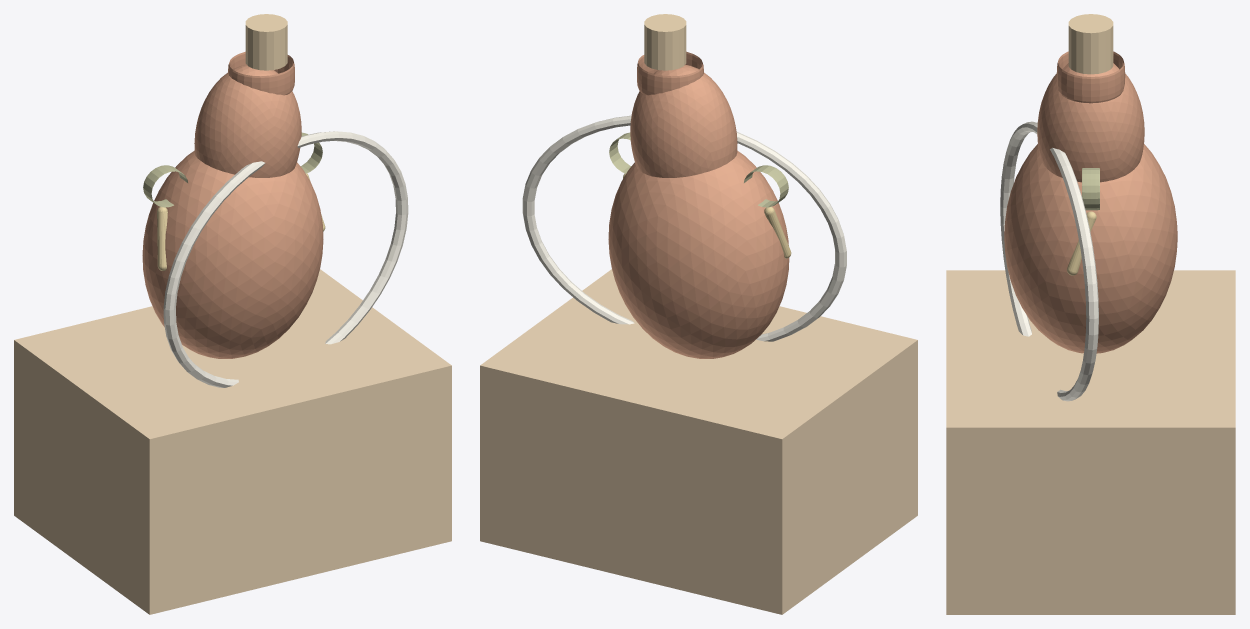
File: item_waterskin.glb
3 views of the same model, side by side, from view 1: azimuth 30°, elevation 25°; view 2: azimuth 150°, elevation 25°; view 3: azimuth 270°, elevation 25° (orthographic). The views are drawn at different scales.
Visible parts, largest first — view 1: Pedestal, Body, Body_Top, Strap, Cork, Neck_Ring, Ring_R; view 2: Pedestal, Body, Body_Top, Strap, Cork, Neck_Ring, Ring_R; view 3: Pedestal, Body, Body_Top, Strap, Cork, Neck_Ring, Ring_L, Tassel_L_3.
Boxes of the visible parts, box(x1,y1,x2,y2) form: Pedestal: box(14, 269, 451, 614); Body: box(142, 150, 323, 358); Body_Top: box(194, 64, 301, 177); Strap: box(163, 131, 408, 387); Cork: box(245, 14, 287, 70); Neck_Ring: box(228, 51, 294, 95); Ring_R: box(143, 165, 187, 207); Pedestal: box(480, 269, 917, 614); Body: box(608, 150, 789, 358); Body_Top: box(630, 64, 737, 177); Strap: box(522, 115, 846, 341); Cork: box(644, 14, 686, 70); Neck_Ring: box(637, 51, 703, 95); Ring_R: box(744, 165, 788, 207); Pedestal: box(946, 270, 1235, 614); Body: box(1004, 144, 1177, 353); Body_Top: box(1037, 63, 1144, 182); Strap: box(1000, 121, 1098, 401); Cork: box(1068, 14, 1113, 74); Neck_Ring: box(1056, 51, 1125, 103); Ring_L: box(1082, 168, 1099, 210); Tassel_L_3: box(1067, 211, 1096, 275).
Size of the model in its own units: 0.971 by 1.41 by 0.7.
